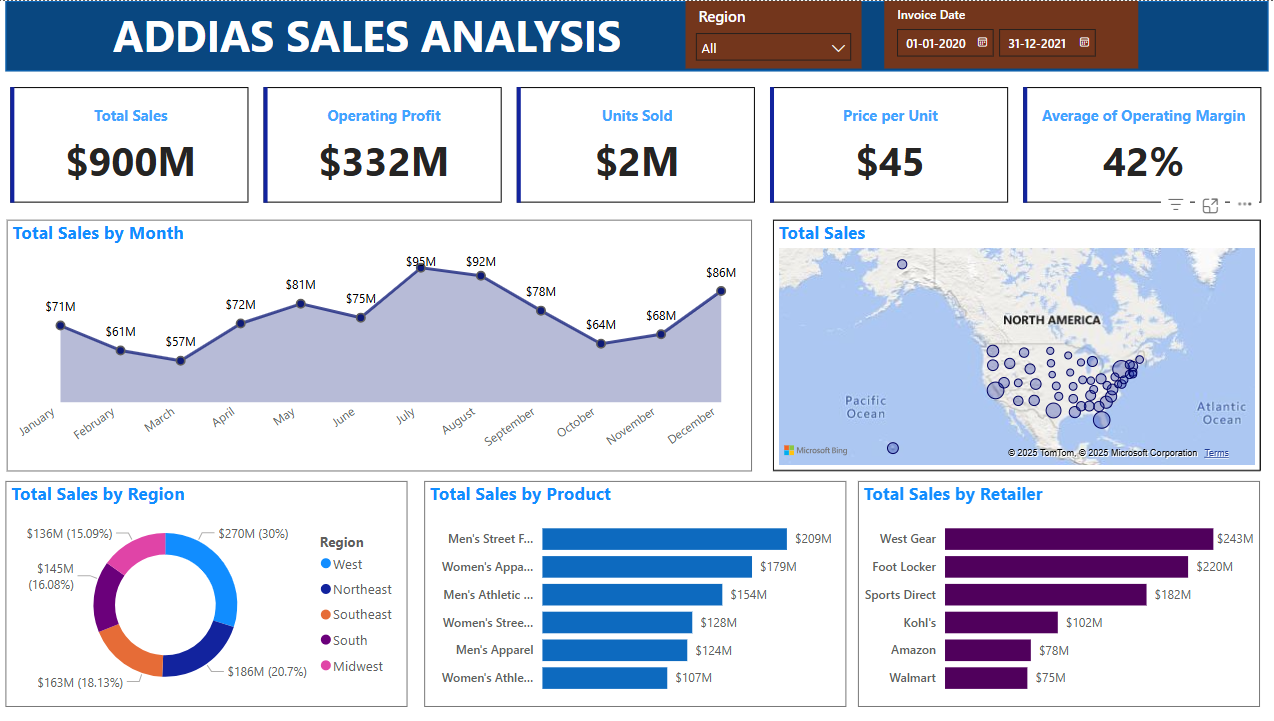

What the dashboard file says about the page in this screenshot:
{"tool":"powerbi","page":{"name":"Page 1","canvas":[1280,720],"ordinal":0},"visuals":[{"type":"shape","box":[12.9,0,1257.1,70],"z":0},{"type":"textbox","box":[115,0,537.5,67.5],"z":1000},{"type":"cardVisual","fields":{"Data":["Sum(Data Sales Adidas.Total Sales)","Sum(Data Sales Adidas.Operating Profit)","Sum(Data Sales Adidas.Units Sold)","Avg(Data Sales Adidas.Price per Unit)","Avg(Data Sales Adidas.Operating Margin)"]},"box":[12.5,81.2,1257.5,125],"z":2000},{"type":"areaChart","title":"Total Sales by Month","fields":{"Category":["Data Sales Adidas.Invoice Date.Variation.Date Hierarchy.Month"],"Y":["Sum(Data Sales Adidas.Total Sales)"]},"box":[13.8,217.5,741.2,250],"z":3000},{"type":"map","title":"Total Sales","fields":{"Category":["Data Sales Adidas.State"],"Size":["Sum(Data Sales Adidas.Total Sales)"]},"box":[776.2,217.5,485,250],"z":4000},{"type":"donutChart","title":"Total Sales by Region","fields":{"Category":["Data Sales Adidas.Region"],"Y":["Sum(Data Sales Adidas.Total Sales)"]},"box":[12.5,477.5,400,225],"z":5000},{"type":"barChart","title":"Total Sales by Product","fields":{"Category":["Data Sales Adidas.Product"],"Y":["Sum(Data Sales Adidas.Total Sales)"]},"box":[428.8,477.5,420,225],"z":6000},{"type":"barChart","title":"Total Sales by Retailer","fields":{"Category":["Data Sales Adidas.Retailer"],"Y":["Sum(Data Sales Adidas.Total Sales)"]},"box":[861.2,477.5,400,225],"z":7000},{"type":"slicer","fields":{"Values":["Data Sales Adidas.Region"]},"box":[688.8,0,175,67.5],"z":8000},{"type":"slicer","fields":{"Values":["Data Sales Adidas.Invoice Date"]},"box":[887.5,0,252.5,67.5],"z":9000}]}

Visuals, with their boxes in screenshot pixels (x1, y1, x2, y2), scaled from the page's 1280x720 canvas onto the 1274x721 screenshot:
shape: <box>13,0,1264,70</box>
textbox: <box>114,0,649,68</box>
cardVisual - Sum(Data Sales Adidas.Total Sales) x Sum(Data Sales Adidas.Operating Profit): <box>12,81,1264,206</box>
"Total Sales by Month" areaChart: <box>14,218,751,468</box>
"Total Sales" map: <box>773,218,1255,468</box>
"Total Sales by Region" donutChart: <box>12,478,411,703</box>
"Total Sales by Product" barChart: <box>427,478,845,703</box>
"Total Sales by Retailer" barChart: <box>857,478,1255,703</box>
slicer - Data Sales Adidas.Region: <box>686,0,860,68</box>
slicer - Data Sales Adidas.Invoice Date: <box>883,0,1135,68</box>
